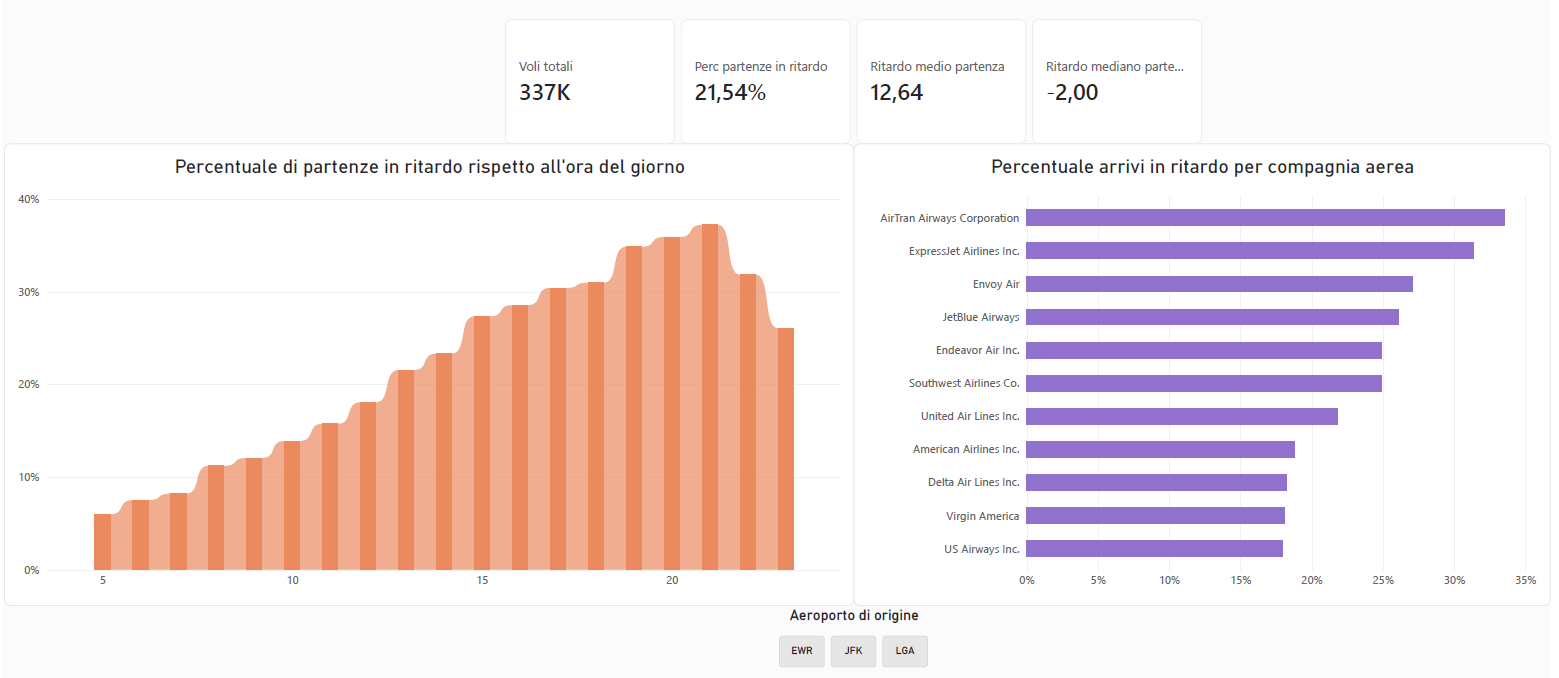

The dashboard page shown, as its layout file describes it:
{"tool":"powerbi","page":{"name":"Panoramica","canvas":[1920,1080],"ordinal":0},"visuals":[{"type":"cardVisual","fields":{"Data":["fact_flights.Voli totali","fact_flights.Perc partenze in ritardo","fact_flights.Ritardo medio partenza","fact_flights.Ritardo mediano partenza"]},"box":[623,97.8,865.2,154.7],"z":0},{"type":"ribbonChart","title":"Percentuale di partenze in ritardo rispetto all''ora del giorno","fields":{"Category":["fact_flights.sched_hour"],"Y":["fact_flights.Perc partenze in ritardo"]},"box":[1.5,252.4,1054.8,573.4],"z":1000},{"type":"clusteredBarChart","title":"Percentuale arrivi in ritardo per compagnia aerea","fields":{"Category":["dim_airlines.carrier_name"],"Y":["fact_flights.Perc arrivi in ritardo"]},"box":[1054.8,252.4,865.2,573.4],"z":2000},{"type":"advancedSlicerVisual","title":"Aeroporto di origine","fields":{"Values":["fact_flights.origin"]},"box":[962.9,825.8,185.9,76.3],"z":3000}]}

Visuals, with their boxes on the page's 1920x1080 design canvas (x1, y1, x2, y2). These are canvas units, not pixel positions in the 1559x678 screenshot, which may show the page scaled, cropped or inside an application window:
cardVisual - fact_flights.Voli totali x fact_flights.Perc partenze in ritardo: <bbox>623, 98, 1488, 252</bbox>
"Percentuale di partenze in ritardo rispetto all''ora del giorno" ribbonChart: <bbox>2, 252, 1056, 826</bbox>
"Percentuale arrivi in ritardo per compagnia aerea" clusteredBarChart: <bbox>1055, 252, 1920, 826</bbox>
"Aeroporto di origine" advancedSlicerVisual: <bbox>963, 826, 1149, 902</bbox>
